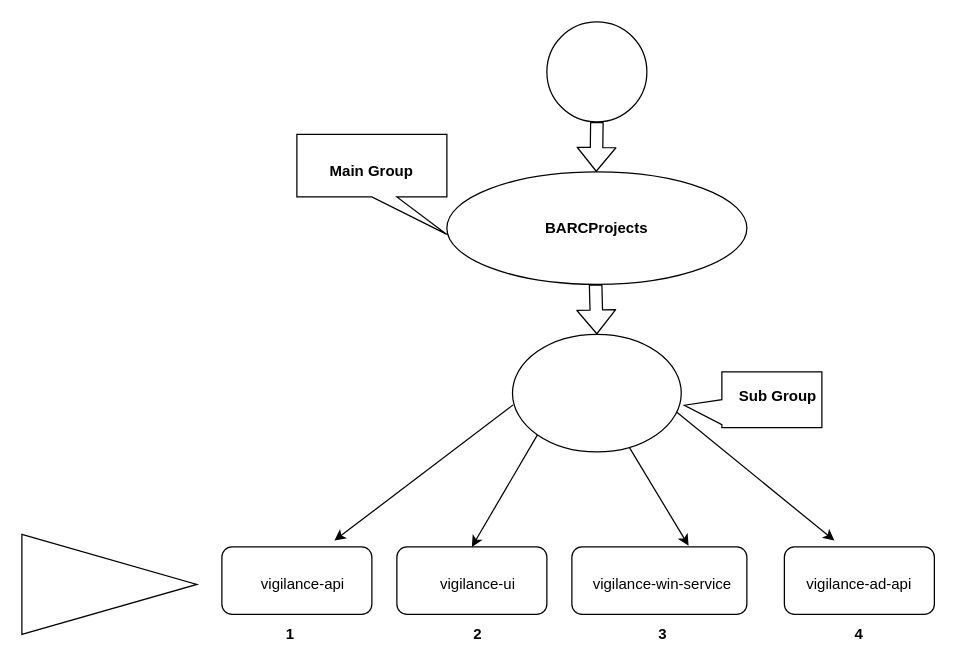
The diagram is 956 pixels wide and 669 high, and some of its shapes have lost their labels. The shapes that lost their labels are listed below. From the top down, each one's centre as x and y in pixels, then its label:
[596,71]: GIT
[596,392]: VigilanceAutomation
[109,583]: Projects
